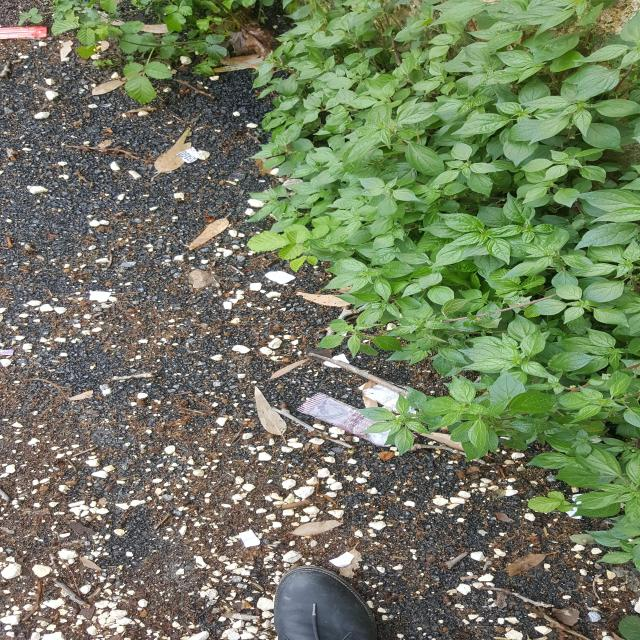litter: (272, 374, 464, 458)
